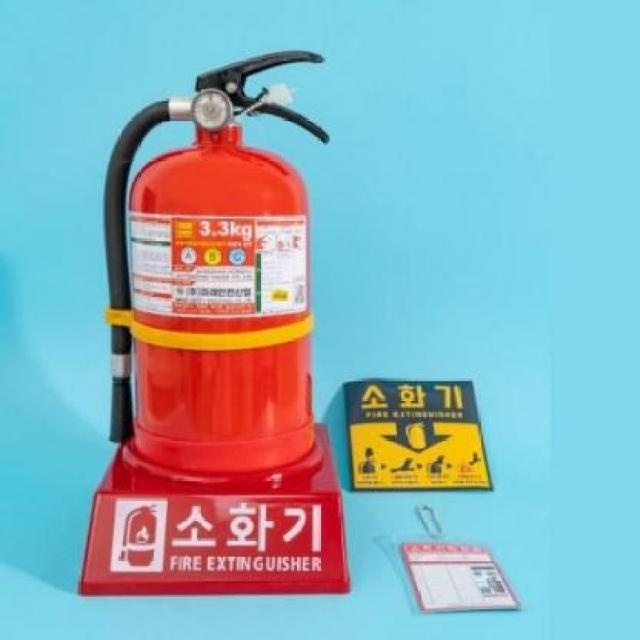fire extinguisher: (103, 50, 329, 473)
